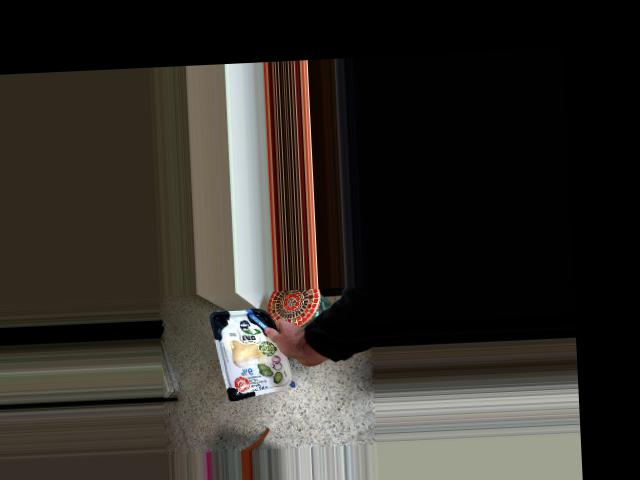cheese: (234, 321, 307, 392)
